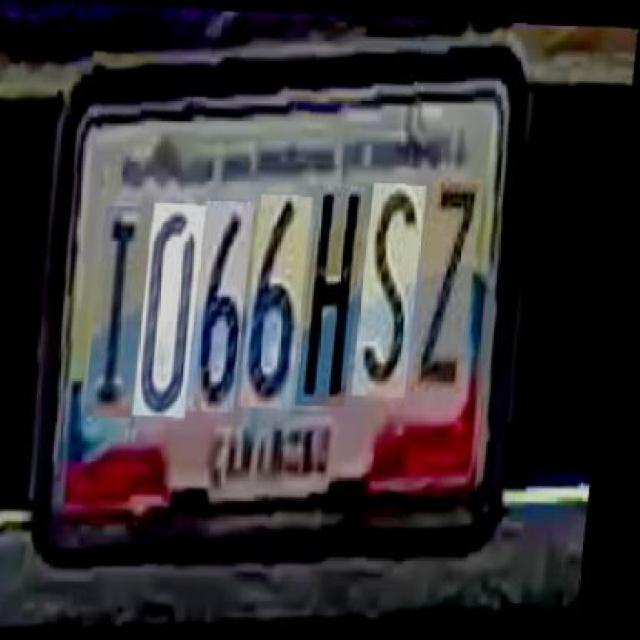0: (141, 200, 210, 414)
6: (247, 189, 316, 403), (194, 196, 258, 409)
h: (303, 178, 371, 400)
i: (92, 203, 156, 415)
s: (358, 176, 429, 390)
z: (419, 168, 486, 384)
